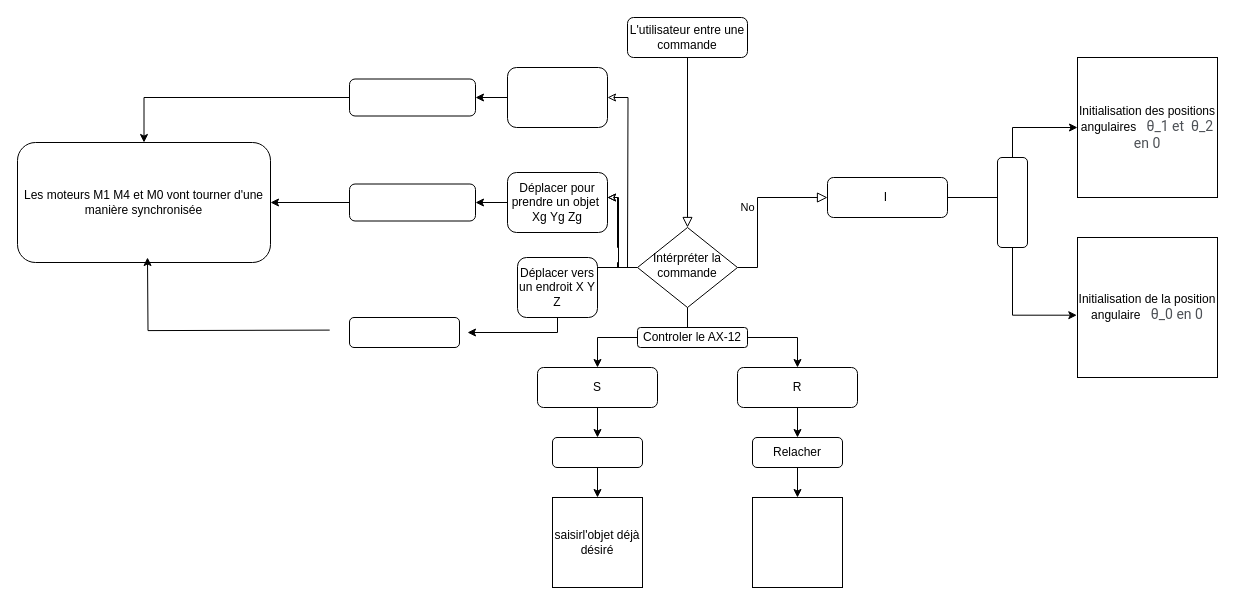
Image size: 1235x605. Some labels were removed from this diagram. The shapes that lost their labels are listed below. From the top down, each one's centre as x and y in pixels, then its label:
(x=412, y=97): D Xg Yg Zg
(x=557, y=97): Déplacer pour Déposer l'objet dans une position objet Xd Yd Zd
(x=412, y=202): P Xg Yg Zg
(x=1012, y=202): Initialiser
(x=404, y=332): M X Y Z
(x=597, y=452): Saisir
(x=797, y=542): Relacher l'objet déjà pris
